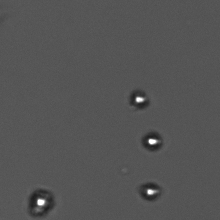Living Cell: (25, 189, 56, 216), (140, 128, 166, 152), (138, 180, 163, 201), (128, 88, 150, 111)
